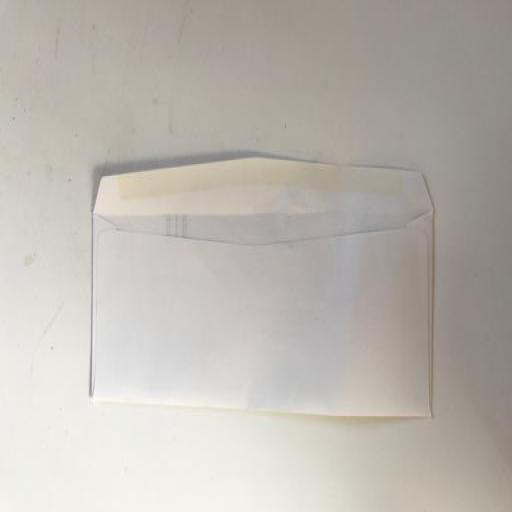paper: (90, 146, 435, 424)
